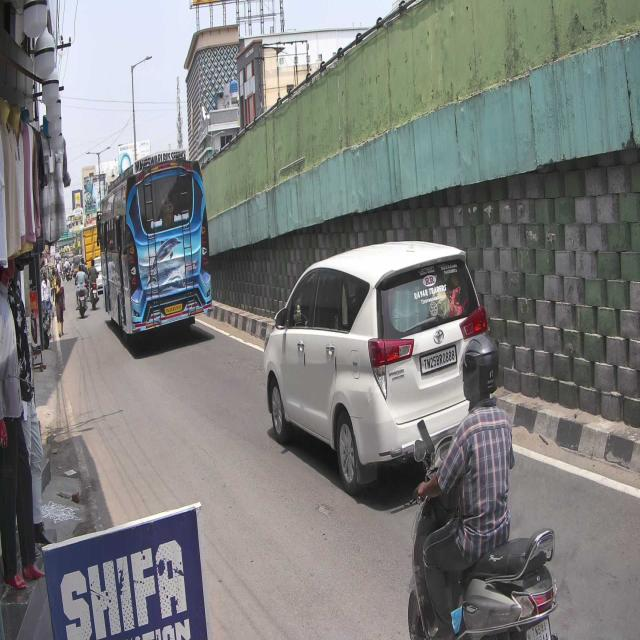single_rider: (406, 329, 561, 640)
